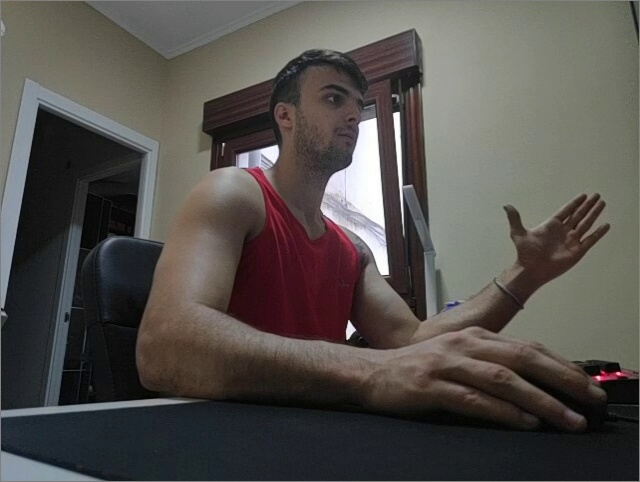Palm: (502, 188, 611, 281)
